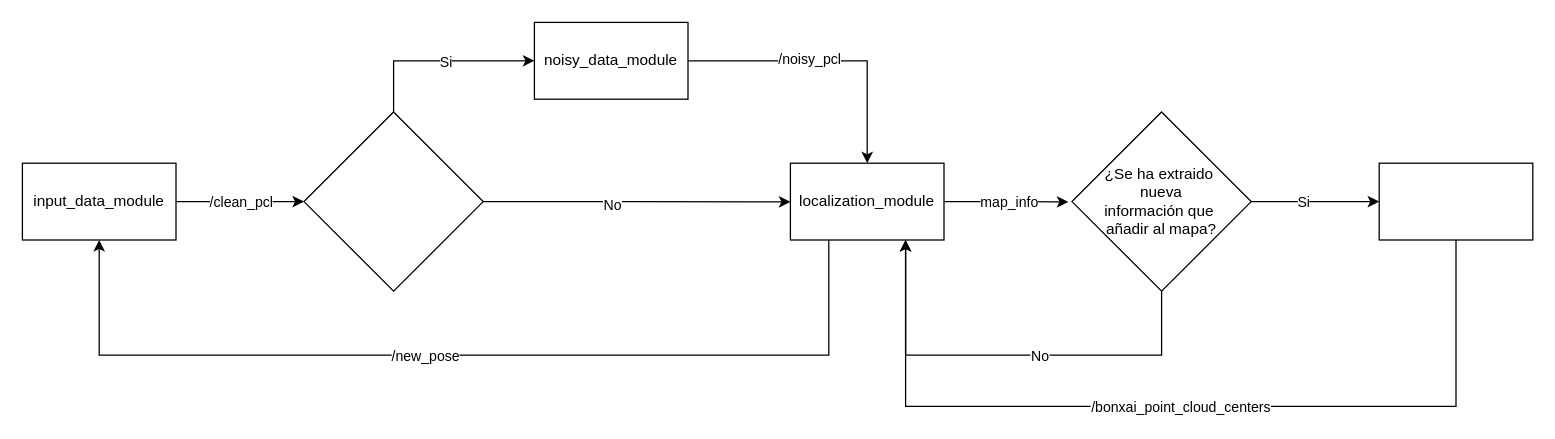
The diagram is 1555 pixels wide and 439 high, and some of its shapes have lost their labels. The centre of each missing label's shape, as x and y in pixels:
"mapping_module" belongs at point 1455,201.
"¿Ejecución con ruido?" belongs at point 393,201.
